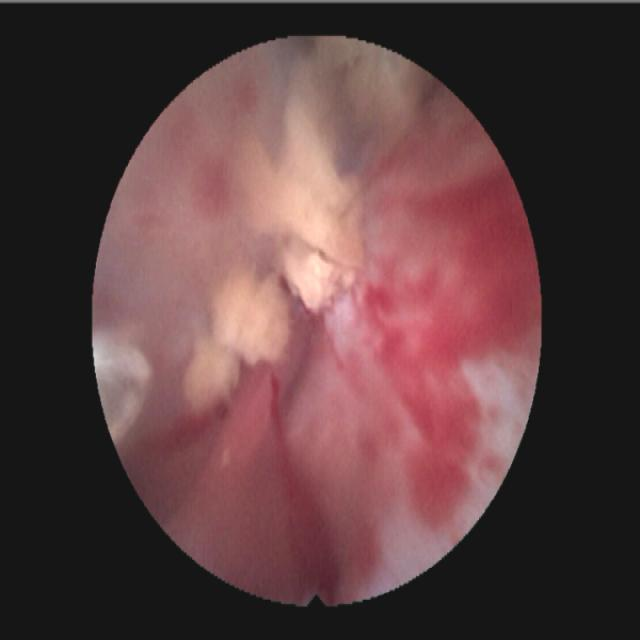stone: (250, 86, 362, 305), (183, 260, 288, 411), (315, 41, 418, 141)
